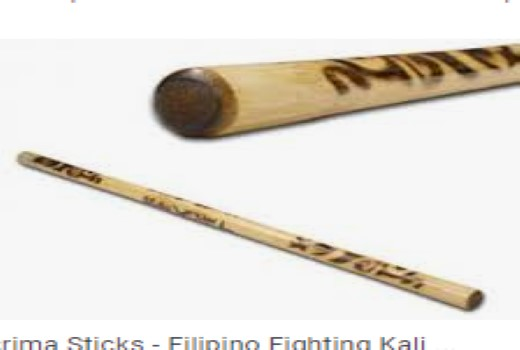baston_e: (31, 150, 462, 308), (225, 42, 513, 140)
baston_v: (140, 48, 243, 156), (459, 279, 485, 318), (7, 146, 38, 171)
